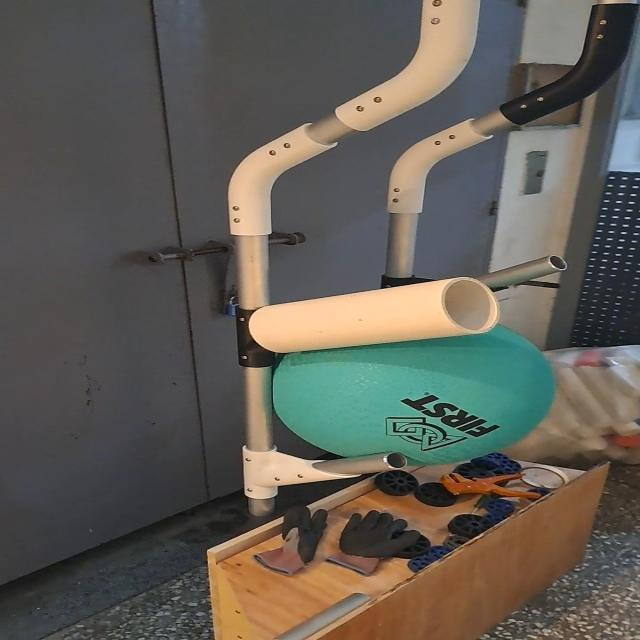ALGAE: (272, 312, 563, 468)
CORAL: (249, 274, 504, 357)
